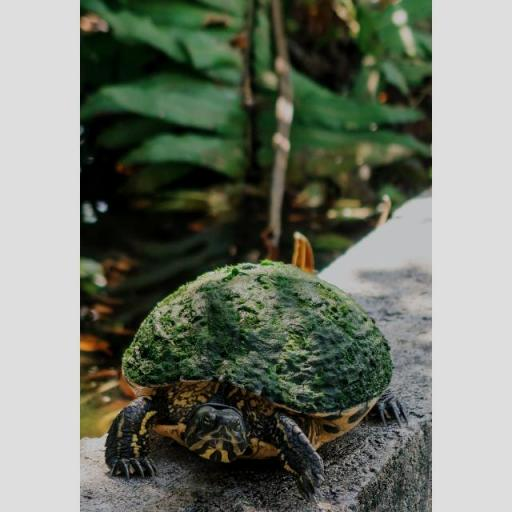turtle: (104, 262, 409, 496)
